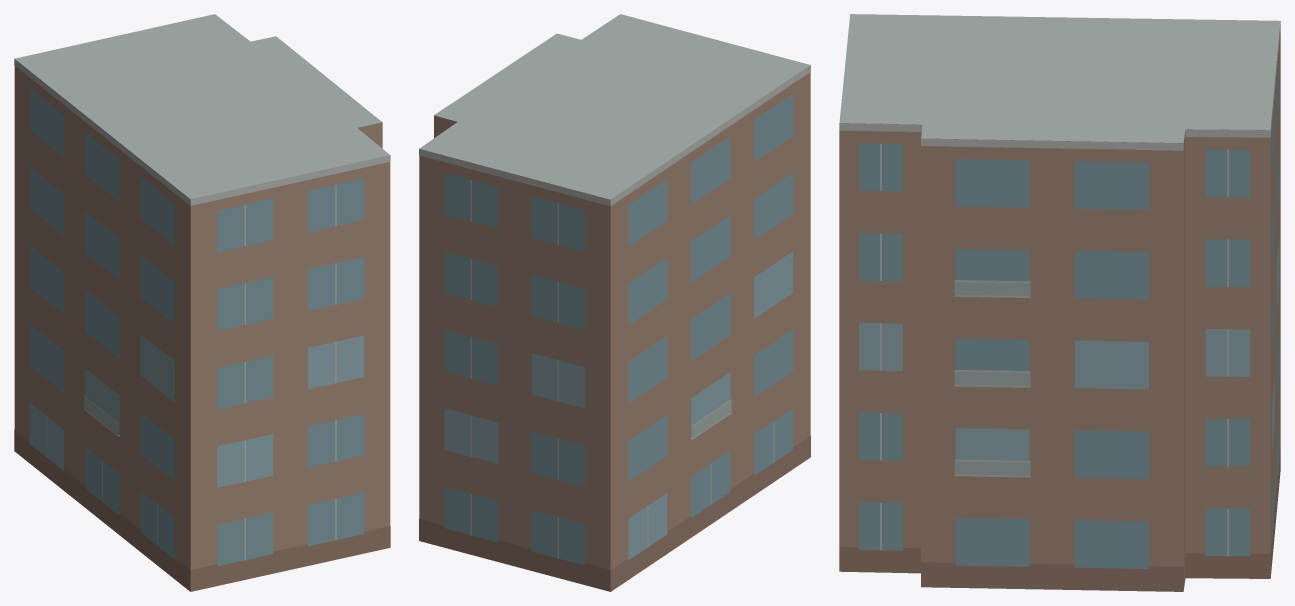
File: survey-upis-32701232.glb
The picture shows the model from 3 angles, left to right: view 1: azimuth 30°, elevation 25°; view 2: azimuth 150°, elevation 25°; view 3: azimuth 270°, elevation 25°; orthographic projection. The views are drawn at different scales.
Parts seen in each view (by area): view 1: survey-upis-32701232.tmp; view 2: survey-upis-32701232.tmp; view 3: survey-upis-32701232.tmp.
Boxes of the visible parts, x1,y1,x2,y2 form: survey-upis-32701232.tmp: (14,14,390,591); survey-upis-32701232.tmp: (419,14,810,591); survey-upis-32701232.tmp: (839,14,1280,591).
Size of the model in its own units: 8.96 by 14.5 by 12.93.
